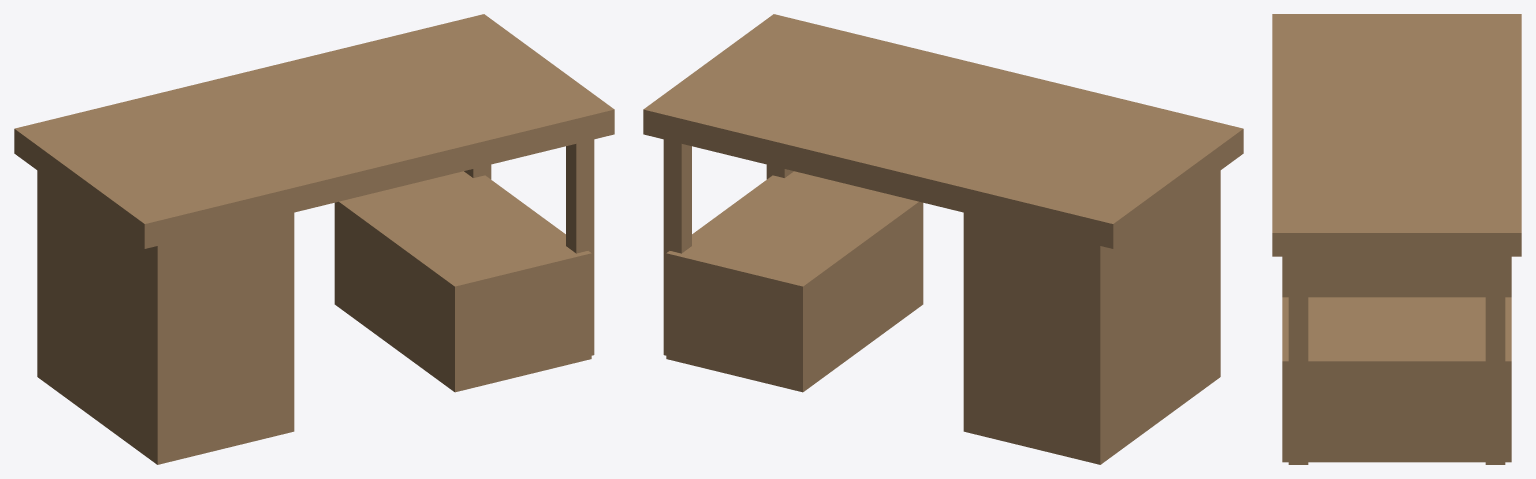
The model's file is desk_wood.gltf.
The picture shows the model from 3 angles, left to right: view 1: azimuth 30°, elevation 25°; view 2: azimuth 150°, elevation 25°; view 3: azimuth 270°, elevation 25°; orthographic projection. The views are drawn at different scales.
Size of the model in its own units: 1.58 by 0.8 by 0.76.
